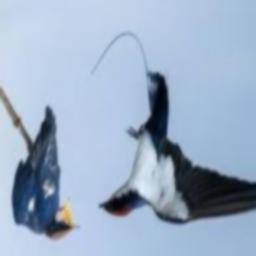Swallow: (98, 72, 256, 226), (12, 107, 79, 242)
